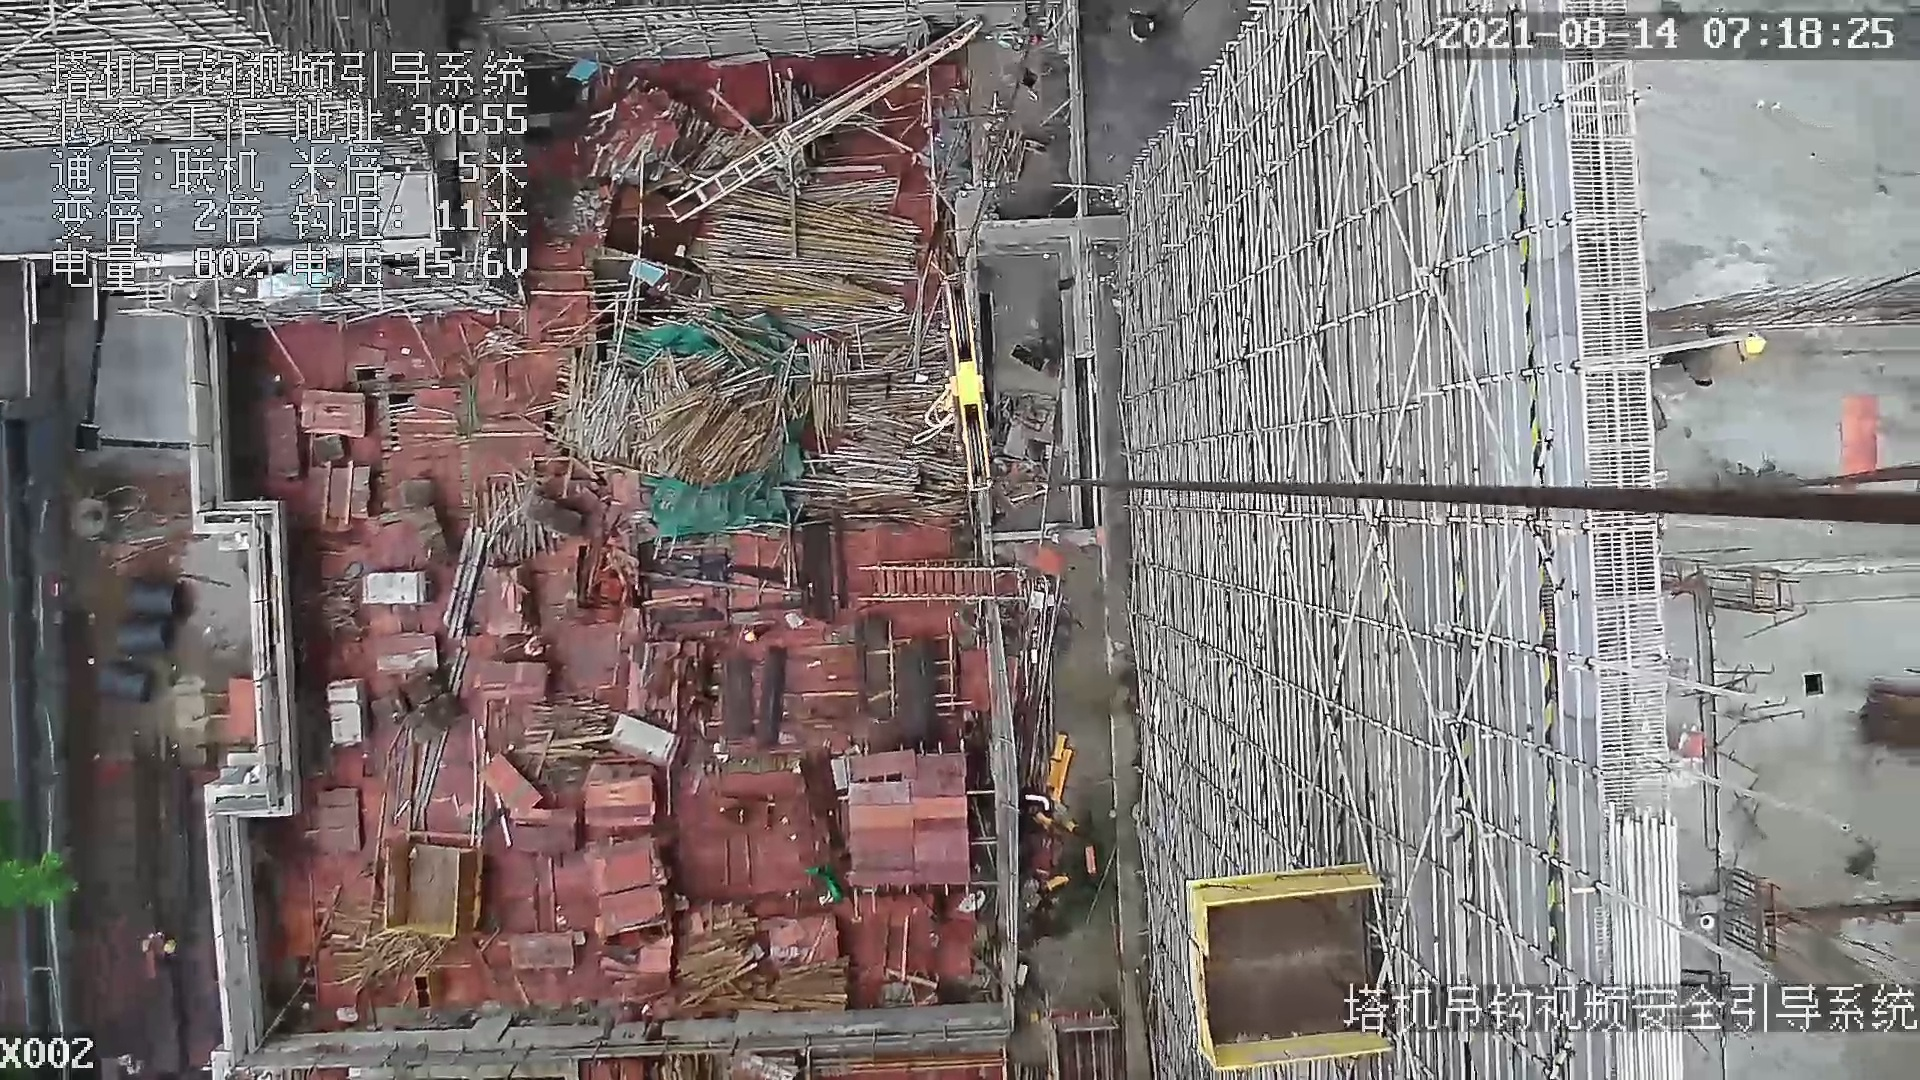helmet: (1734, 327, 1768, 357)
hook: (920, 273, 996, 495)
